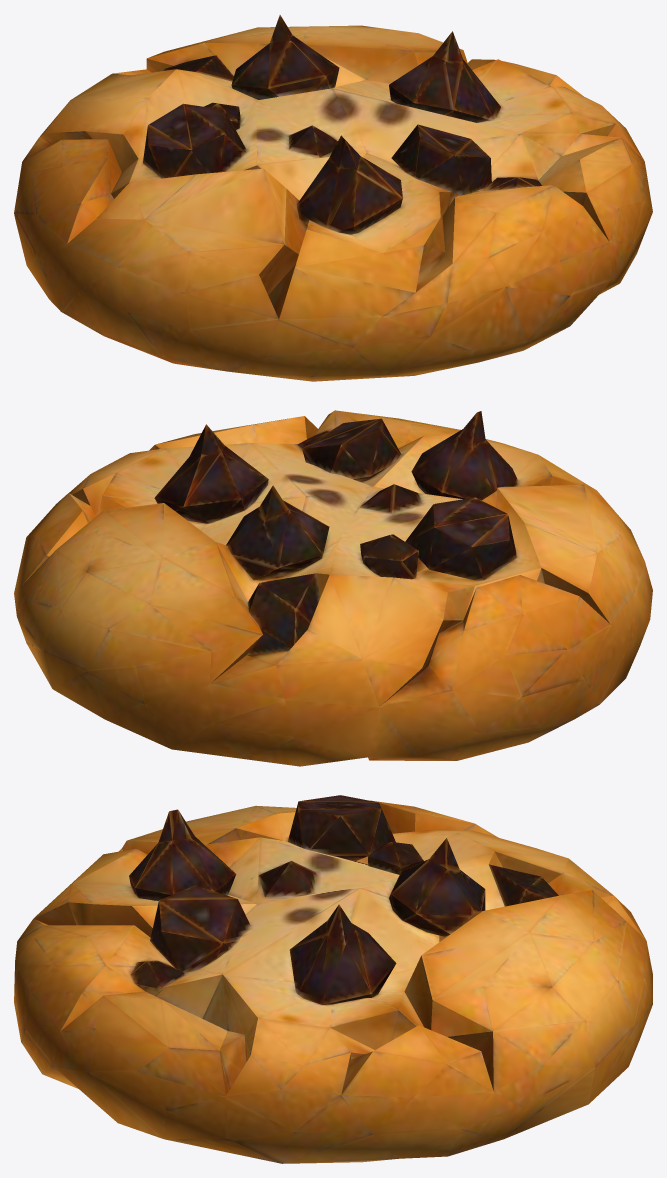
File: cookie.glb
3 renders of one model, top to bottom at view 1: azimuth 30°, elevation 25°; view 2: azimuth 150°, elevation 25°; view 3: azimuth 270°, elevation 25°, orthographic.
Visible parts, largest first — view 1: Mesh_0.001; view 2: Mesh_0.001; view 3: Mesh_0.001.
Part boxes in pixels (x1,y1,x2,y2): Mesh_0.001: (14, 15, 652, 381); Mesh_0.001: (14, 410, 652, 766); Mesh_0.001: (14, 795, 652, 1163).
Size of the model in its own units: 6.8 by 2.77 by 6.8.
1 material, 1 textured.
